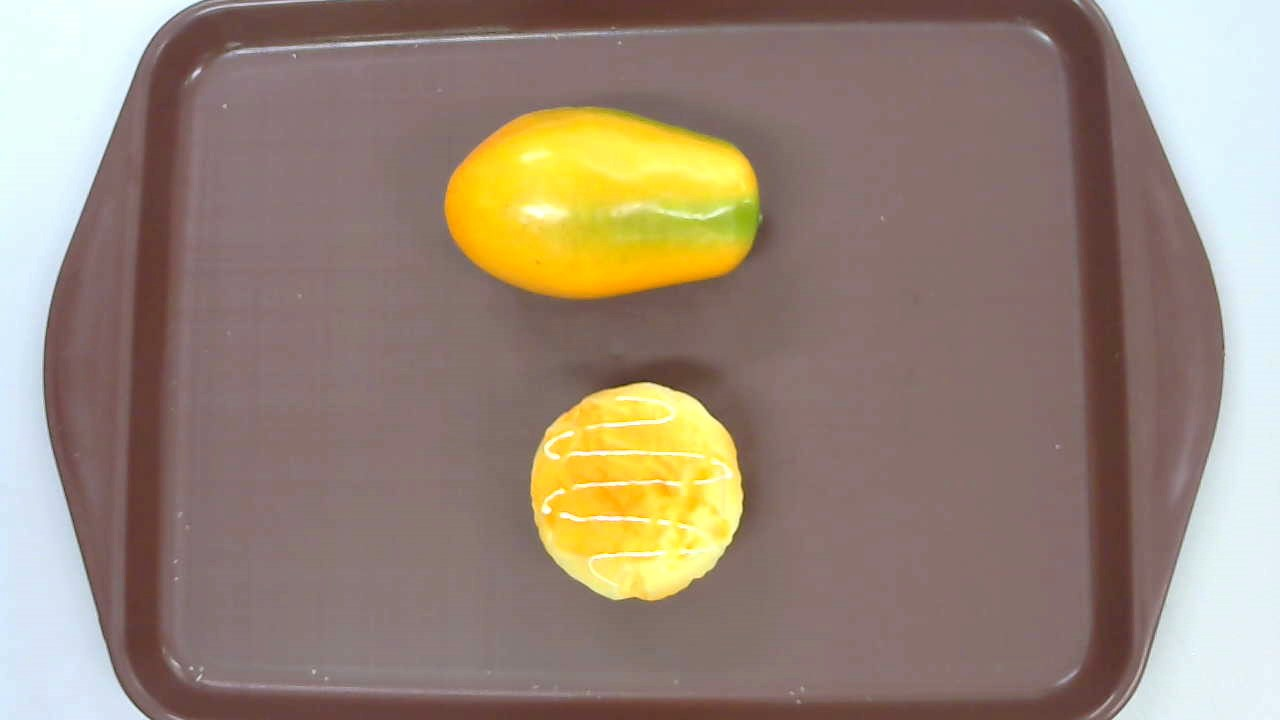cupcake: (531, 381, 744, 601)
papya: (442, 106, 765, 300)
